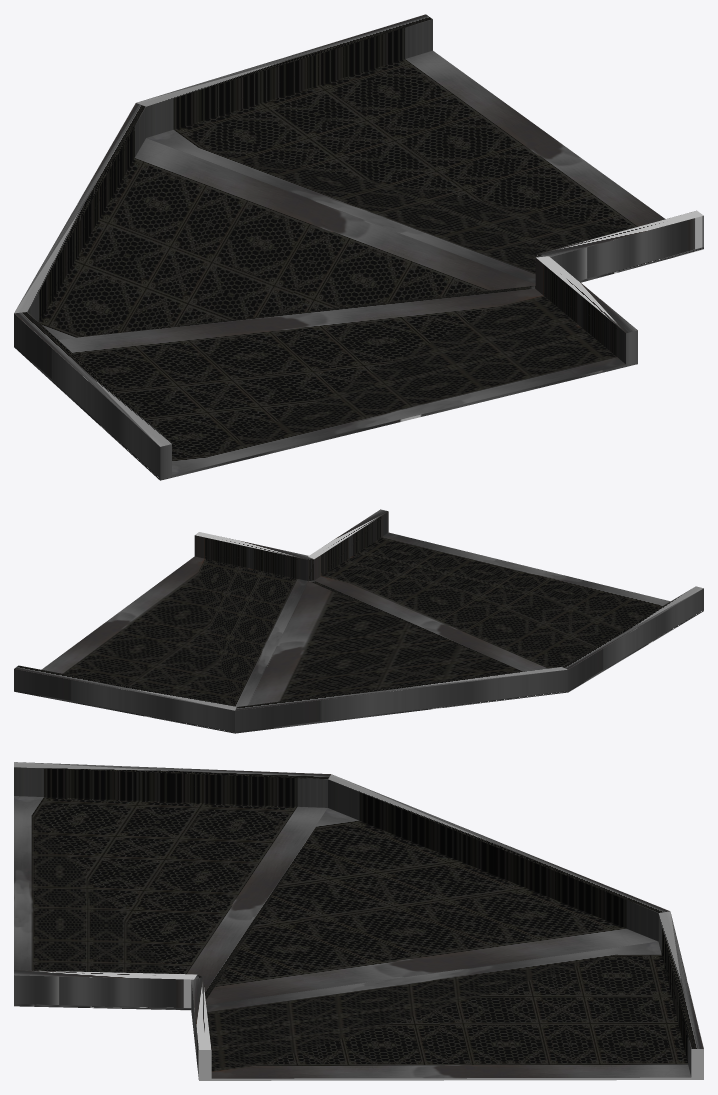
Rendered from TrackTurnTight90.fbx.
3 views of the same model, one above another, from view 1: azimuth 30°, elevation 25°; view 2: azimuth 150°, elevation 25°; view 3: azimuth 270°, elevation 25° (orthographic). The views are drawn at different scales.
Parts seen in each view (by area): view 1: Track; view 2: Track; view 3: Track.
Boxes of the visible parts, box(x1,y1,x2,y2) form: Track: box(14, 14, 703, 480); Track: box(14, 509, 703, 733); Track: box(14, 762, 703, 1080).
Size of the model in its own units: 5398 by 270 by 5465.
1 material, 1 textured.
